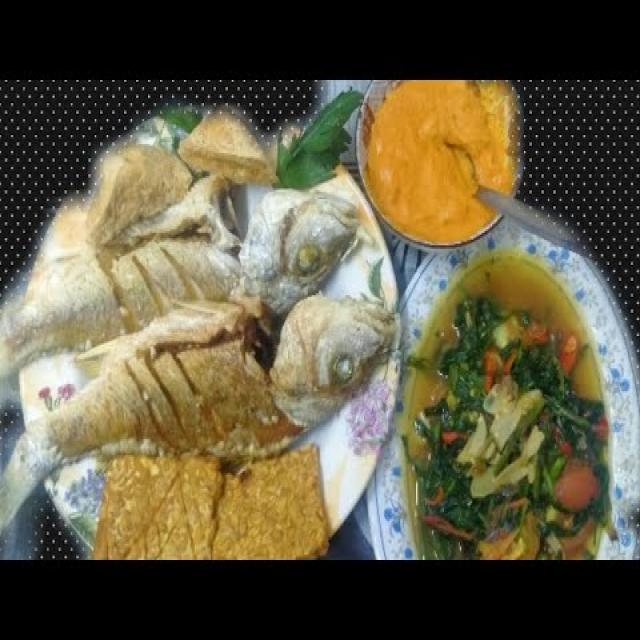ikan goreng: (0, 296, 405, 532), (0, 170, 369, 380)
kangkung: (416, 283, 610, 555)
